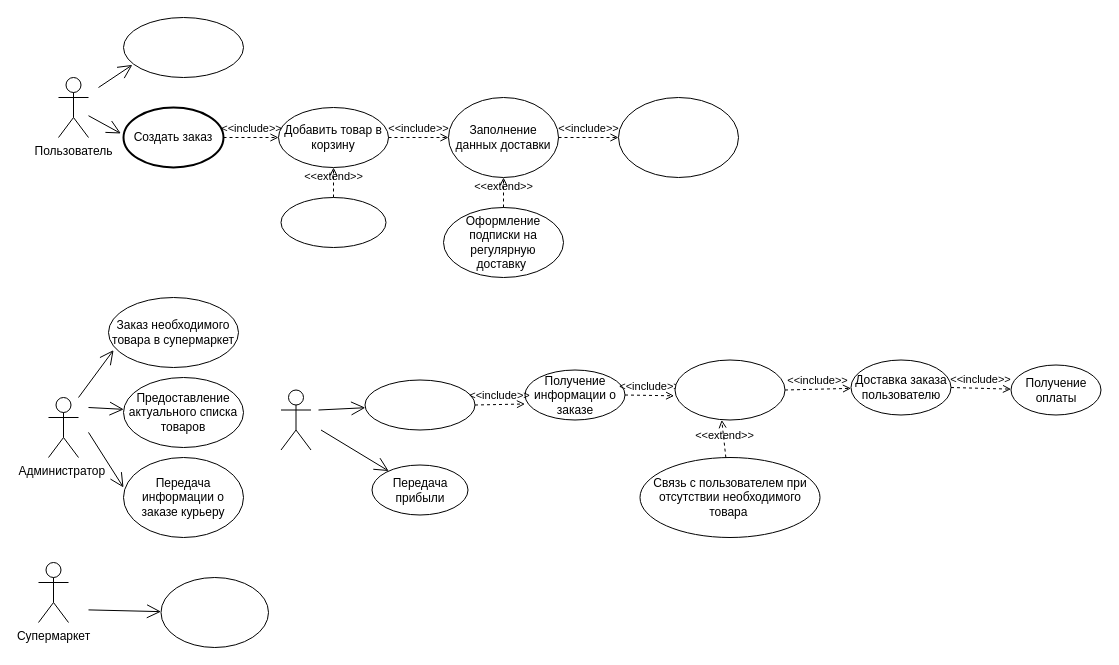
The diagram is 1119 pixels wide and 665 high, and some of its shapes have lost their labels. The shapes that lost their labels are listed below. From the top down, each one's centre as x and y in pixels, then its label:
At (x=183, y=47): "Авторизация в приложении".
At (x=678, y=137): "Подтверждение заказа".
At (x=333, y=222): "Удалить товар из корзины".
At (x=419, y=404): "Обработка заказа".
At (x=729, y=389): "Сборка заказа".
At (x=295, y=419): "Курьер".
At (x=214, y=612): "Хранение товара".
